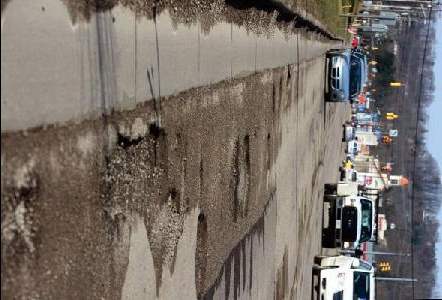pothole: (95, 119, 170, 218), (8, 176, 44, 259), (147, 188, 182, 262), (222, 134, 241, 223), (193, 208, 211, 300), (245, 132, 253, 215), (263, 130, 273, 172)
